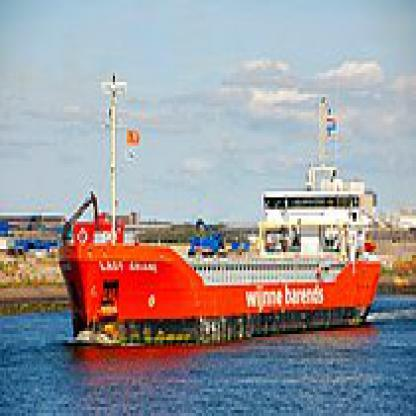Container Ship: (56, 71, 383, 349)
